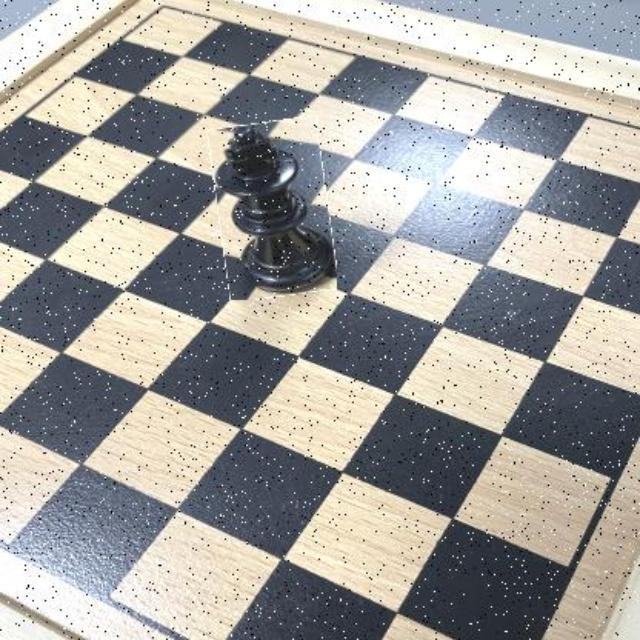black-king: (212, 118, 333, 298)
